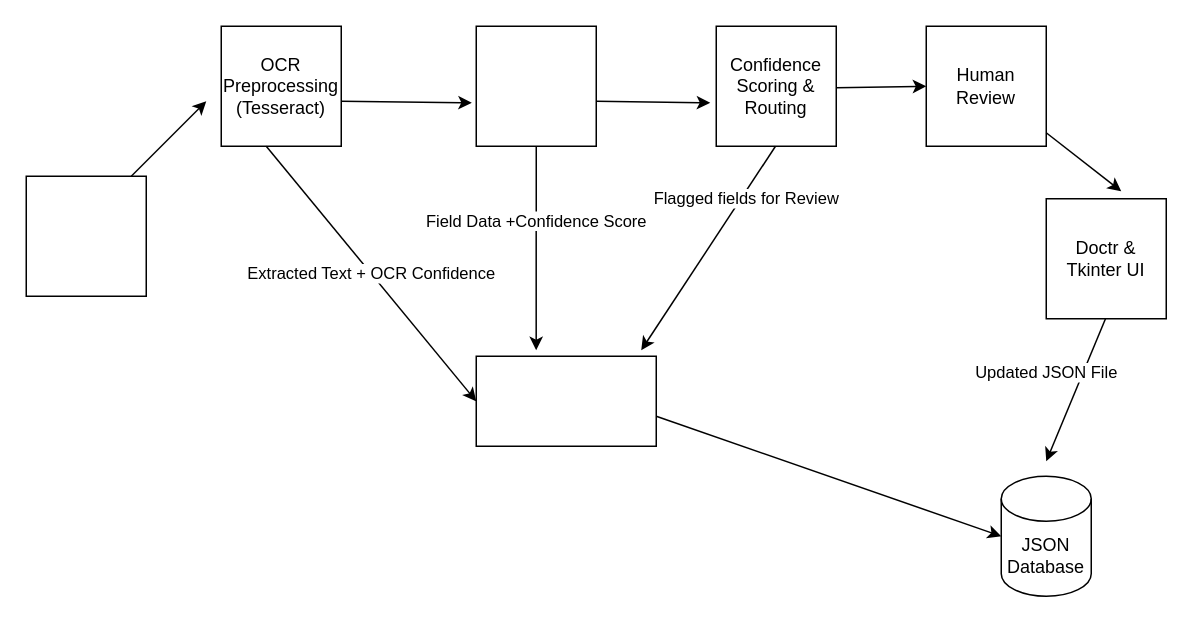
The diagram is 1193 pixels wide and 623 high, and some of its shapes have lost their labels. The shapes that lost their labels are listed below. From the top down, each one's centre as x and y in pixels, then its label:
At point (535, 85): "Field Extraction & Validation".
At point (85, 235): "Images of invoices".
At point (565, 400): "Structured Output (JSON)".
